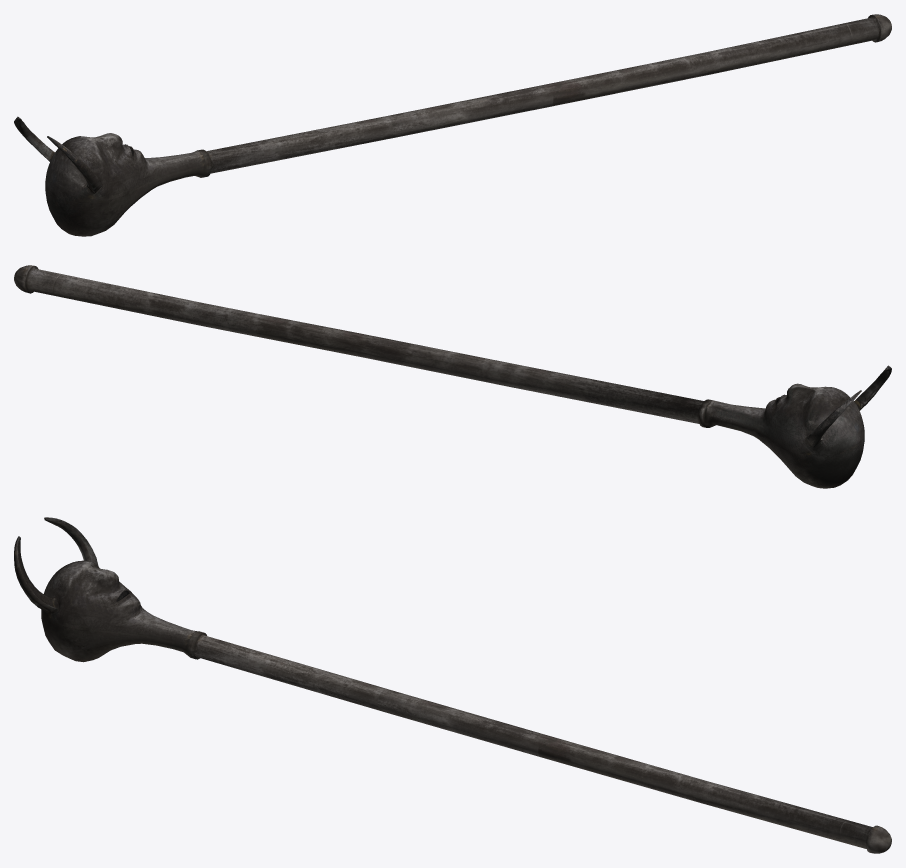
The model's file is Zeremonienstab.gltf.
The picture shows the model from 3 angles, top to bottom: view 1: azimuth 30°, elevation 25°; view 2: azimuth 150°, elevation 25°; view 3: azimuth 330°, elevation 25°; orthographic projection.
Parts seen in each view (by area): view 1: Zeremonienstab; view 2: Zeremonienstab; view 3: Zeremonienstab.
Part boxes in pixels (bbox=[...]): Zeremonienstab: bbox=[14, 14, 891, 236]; Zeremonienstab: bbox=[14, 265, 891, 488]; Zeremonienstab: bbox=[14, 517, 891, 853].
Bounding box in the file's own units: 1.15 × 0.1528 × 0.1447.
Materials: 1 (1 with a texture image).
